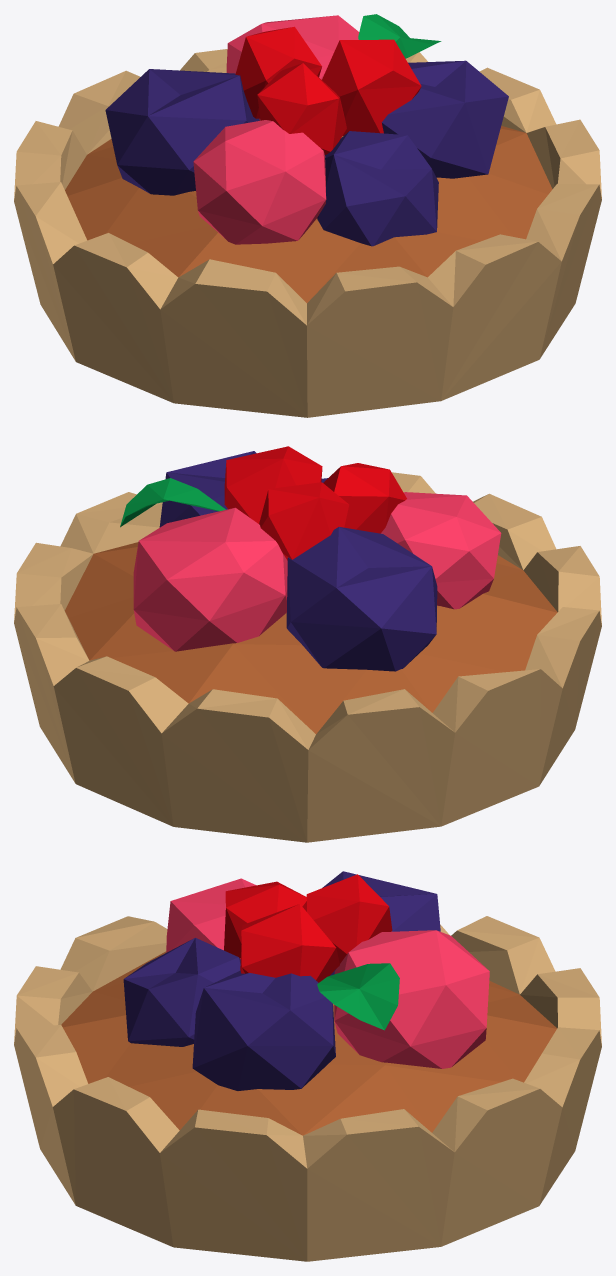
The model's file is tarte_berry.fbx.
3 renders of one model, top to bottom at view 1: azimuth 30°, elevation 25°; view 2: azimuth 150°, elevation 25°; view 3: azimuth 270°, elevation 25°, orthographic.
Visible parts, largest first — view 1: tarte_berry; view 2: tarte_berry; view 3: tarte_berry.
Part boxes in pixels (left/top/right/bottom): tarte_berry: left=14, top=14, right=601, bottom=417; tarte_berry: left=14, top=446, right=601, bottom=842; tarte_berry: left=14, top=871, right=601, bottom=1261.
Bounding box in the file's own units: 9.84 × 4.83 × 9.84.
